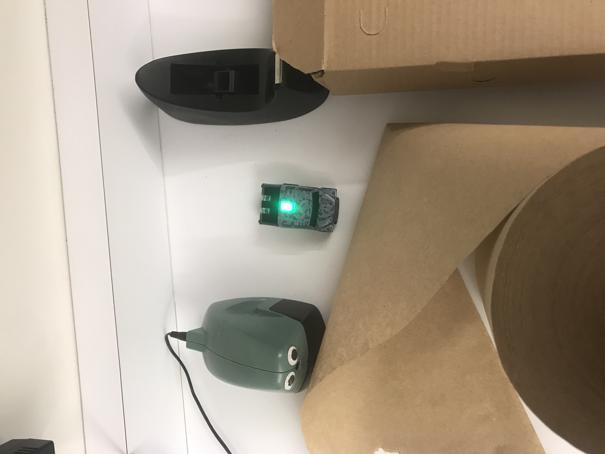MXT: (258, 184, 340, 232)
